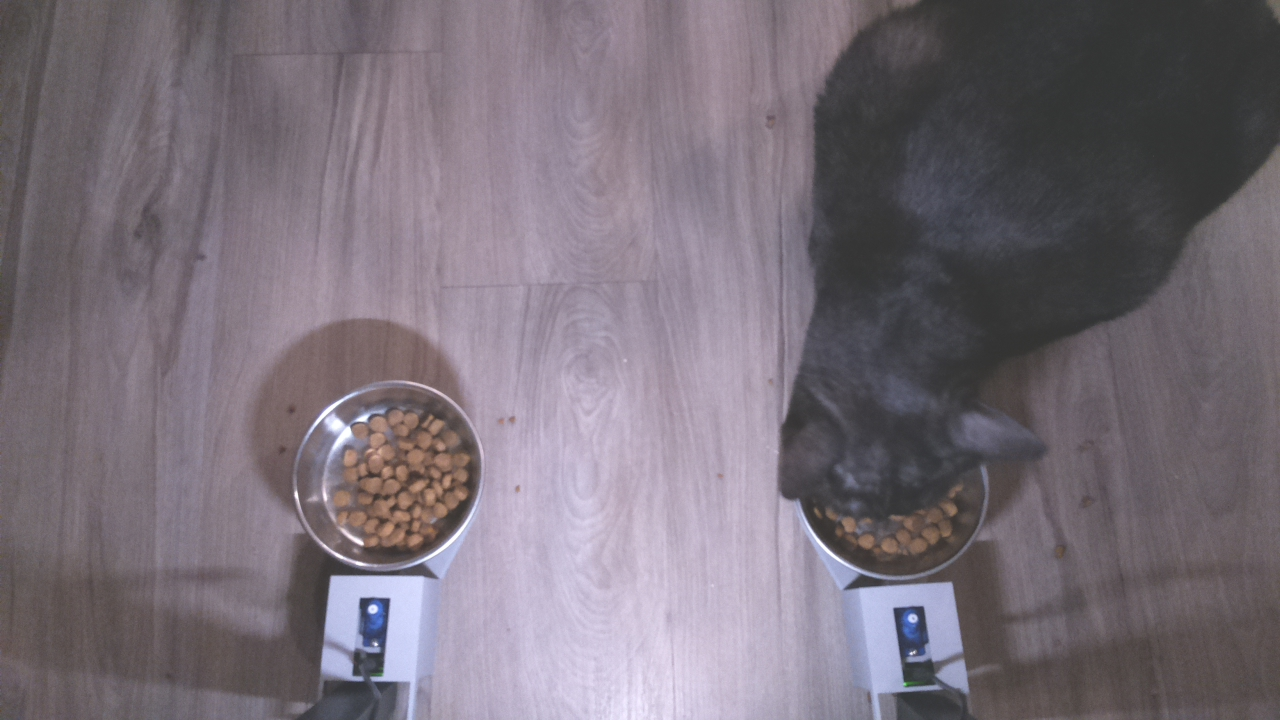open_bowl: (287, 375, 487, 580)
saki_eating: (748, 299, 1057, 577)
